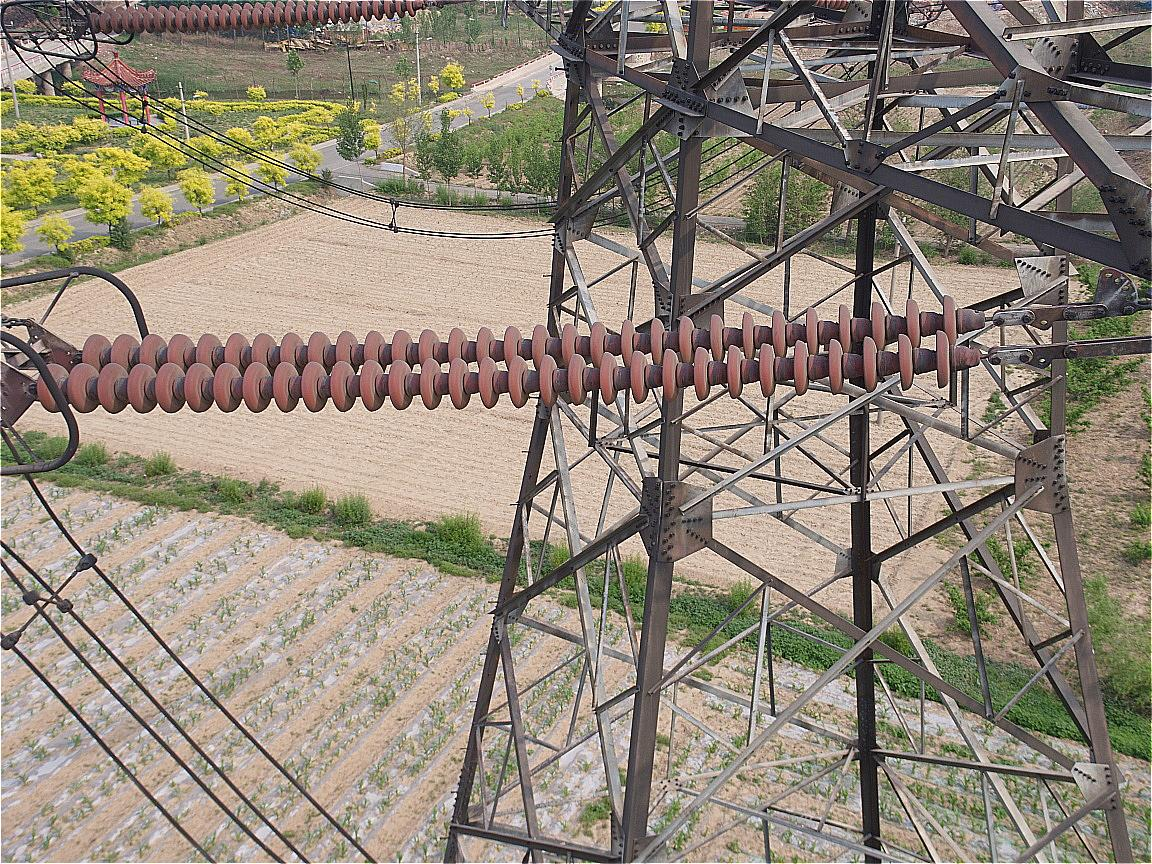insultor1: (34, 293, 957, 414)
